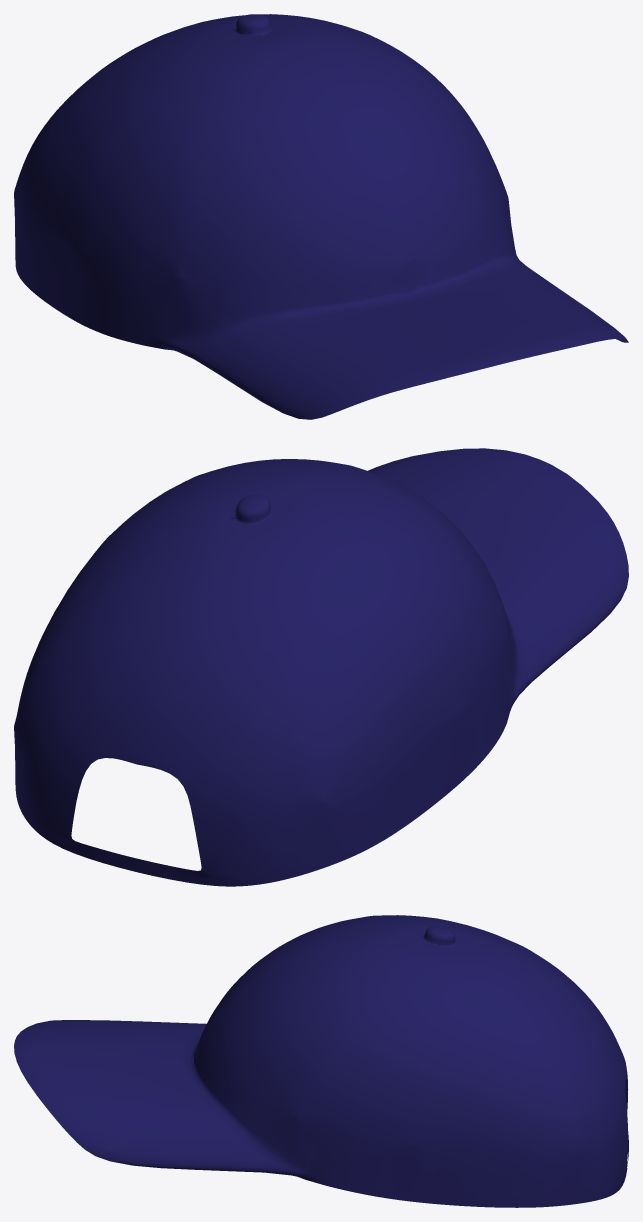
Rendered from headwear-hat-4dbc1ee9.glb.
3 views of the same model, one above another, from view 1: azimuth 30°, elevation 25°; view 2: azimuth 150°, elevation 25°; view 3: azimuth 270°, elevation 25° (orthographic). The views are drawn at different scales.
Parts seen in each view (by area): view 1: Geo_Male_White_Hat.001; view 2: Geo_Male_White_Hat.001; view 3: Geo_Male_White_Hat.001.
Part boxes in pixels (<box>): Geo_Male_White_Hat.001: <box>14,14,628,419</box>; Geo_Male_White_Hat.001: <box>14,448,628,886</box>; Geo_Male_White_Hat.001: <box>14,915,628,1207</box>.
Bounding box in the file's own units: 1.56 × 1.12 × 2.72.
